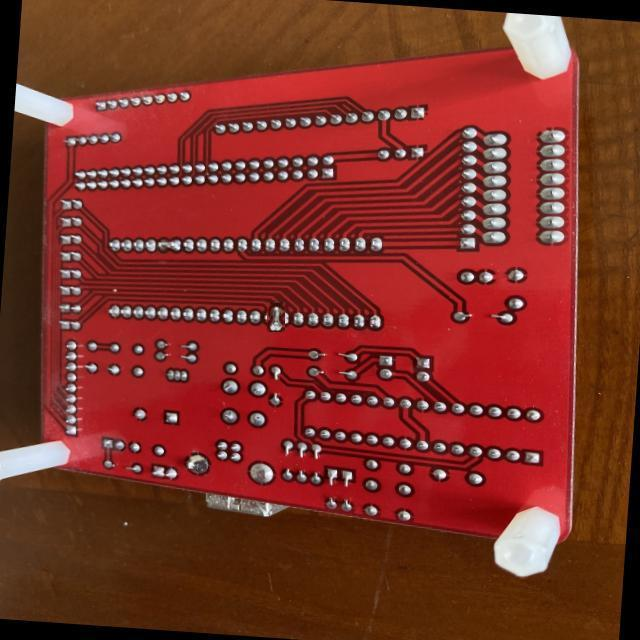damged: (263, 305, 288, 330), (156, 235, 182, 254)
